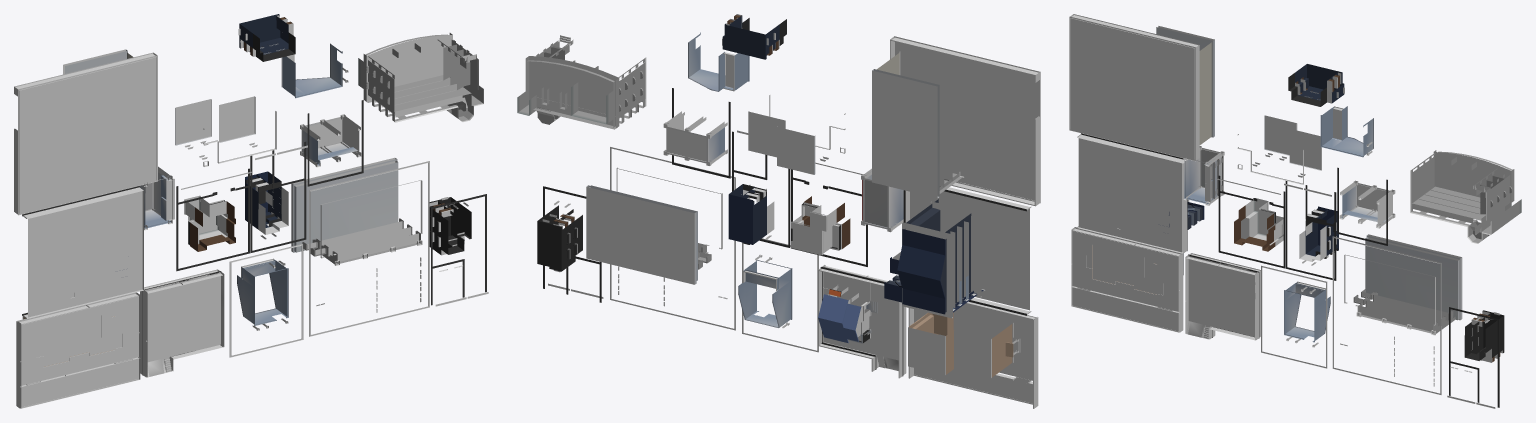
File: SM_000278_merge_w40h101_atlas1_1_8_ground_lv4.fbx
The picture shows the model from 3 angles, left to right: view 1: azimuth 30°, elevation 25°; view 2: azimuth 150°, elevation 25°; view 3: azimuth 330°, elevation 25°; orthographic projection. The views are drawn at different scales.
Visible parts, largest first — view 1: SM_000278.001; view 2: SM_000278.001; view 3: SM_000278.001.
Boxes of the visible parts, bbox=[...] form: SM_000278.001: bbox=[14, 14, 488, 408]; SM_000278.001: bbox=[517, 14, 1040, 408]; SM_000278.001: bbox=[1069, 14, 1521, 408].
Bounding box in the file's own units: 111 × 72.06 × 16.98.
